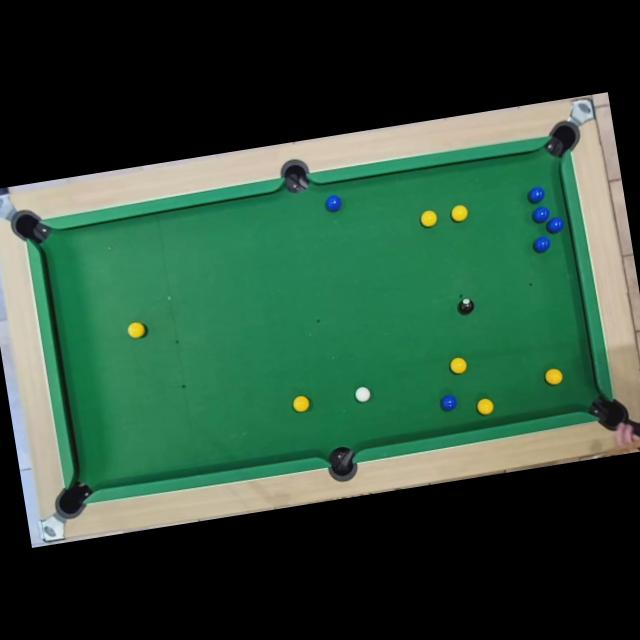Ball: (476, 396, 494, 416), (544, 368, 564, 386), (451, 204, 469, 223), (127, 322, 146, 340), (324, 195, 344, 212), (354, 385, 372, 403), (546, 216, 564, 234), (532, 206, 550, 224), (292, 395, 310, 413), (533, 236, 551, 253), (421, 211, 438, 228), (440, 396, 458, 412), (450, 358, 468, 374), (457, 298, 474, 314), (528, 186, 544, 203)
